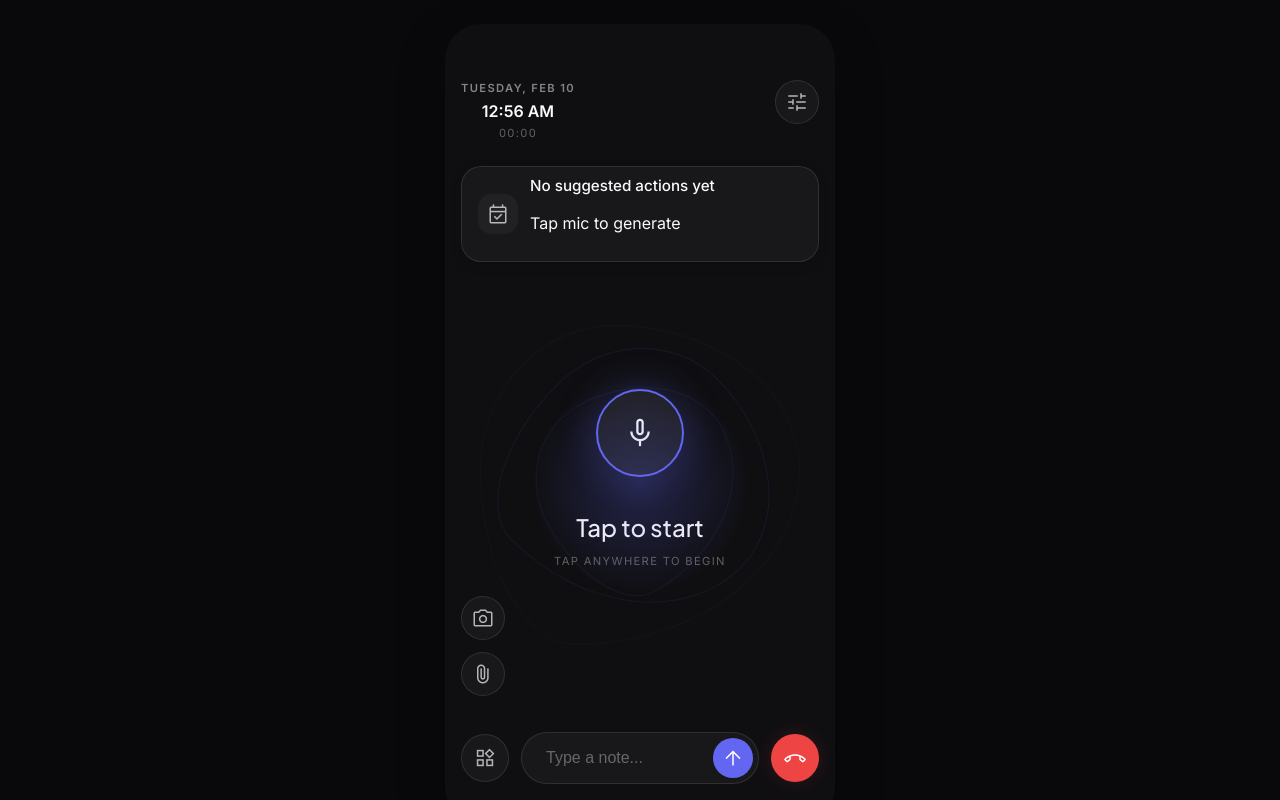
Test: Navigation actions › closes session recap and returns to Hub
Click the button named "End session".
click(795, 758)  # box [771, 734, 819, 782]
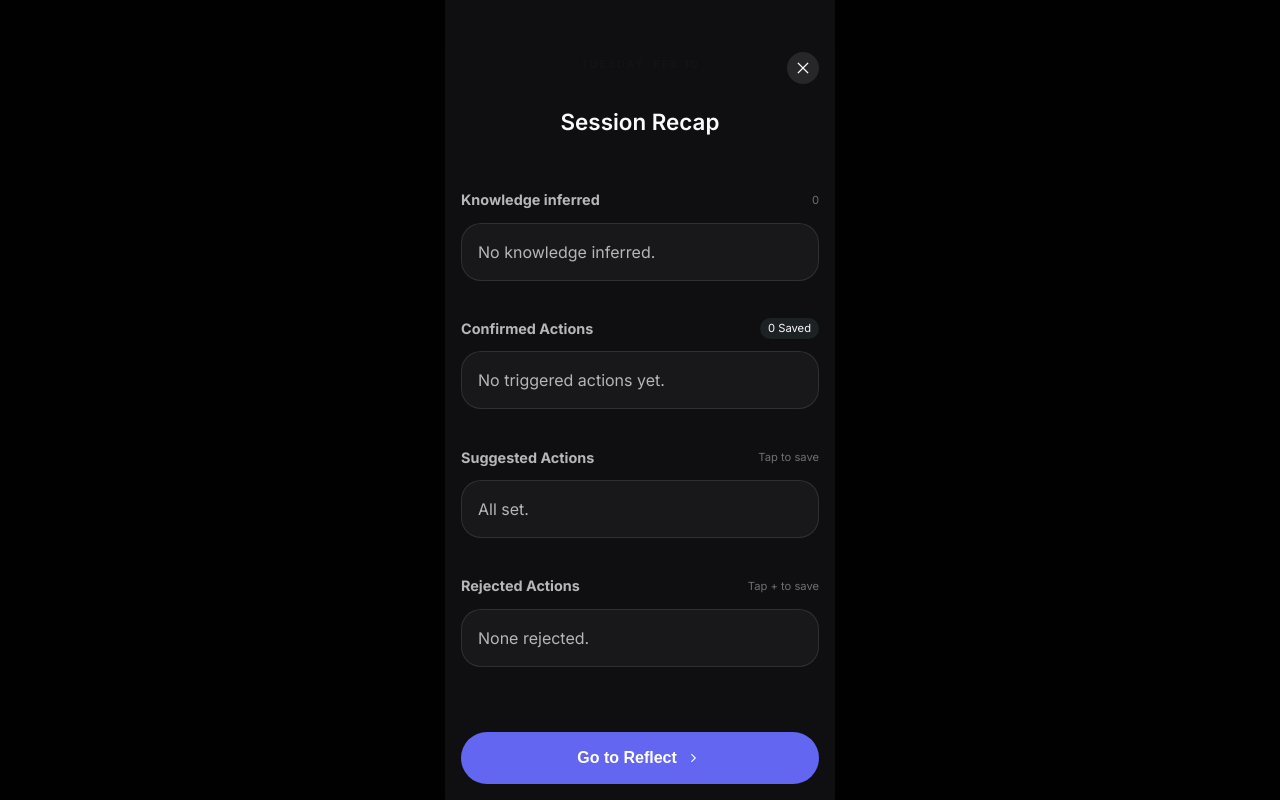
Click the button named "Close recap".
click(803, 68)  # box [787, 52, 819, 84]
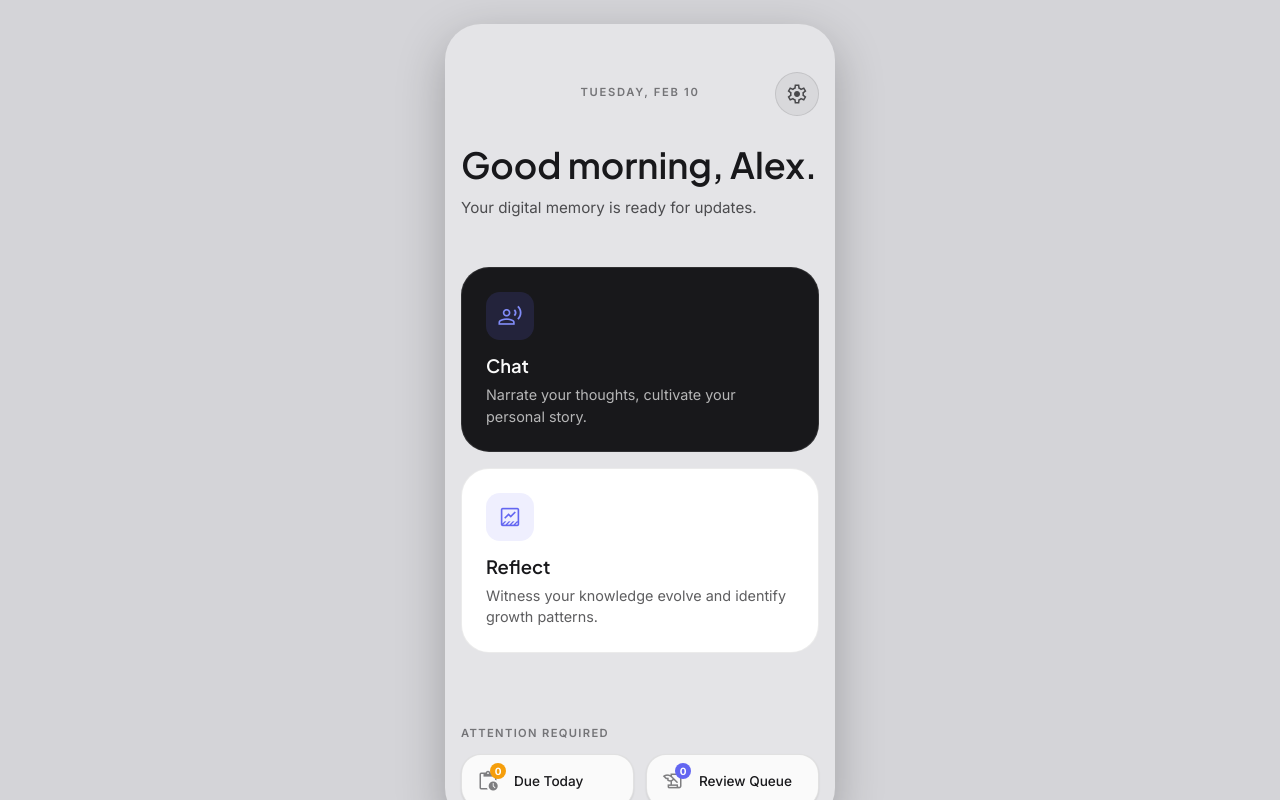
expect the heading "Good morning, Alex." is shown: met, box [461, 144, 819, 185]
